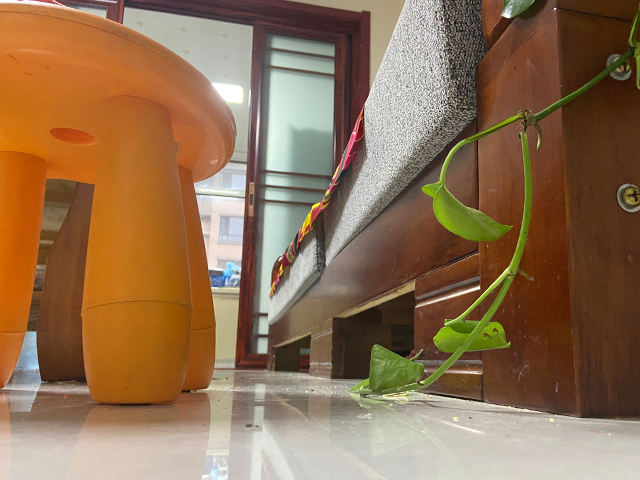sofa: (266, 1, 639, 420)
stool: (1, 1, 241, 408)
